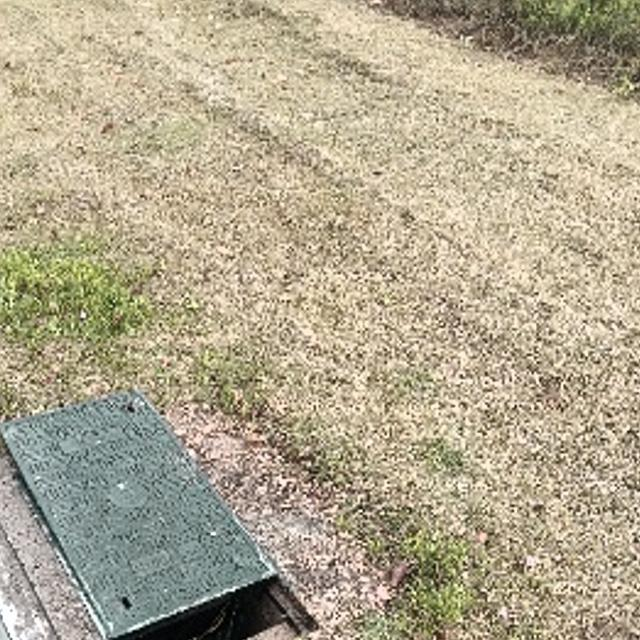uncovered: (0, 389, 326, 640)
